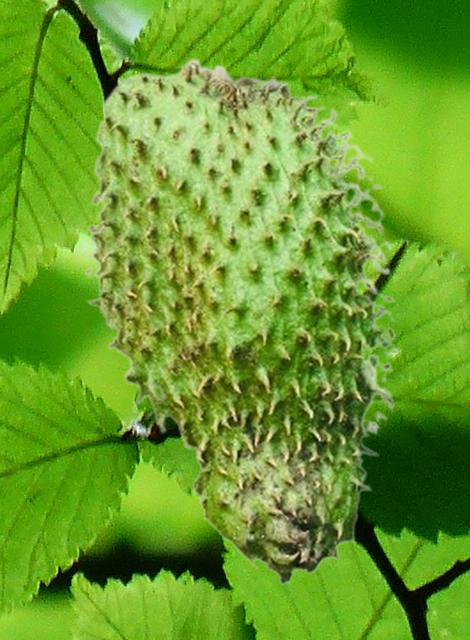guyabano: (83, 56, 400, 585)
